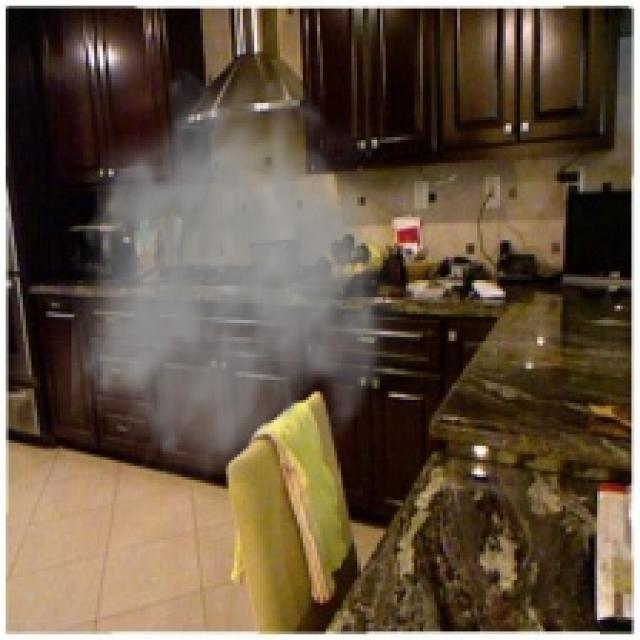smoke: (72, 63, 414, 488)
